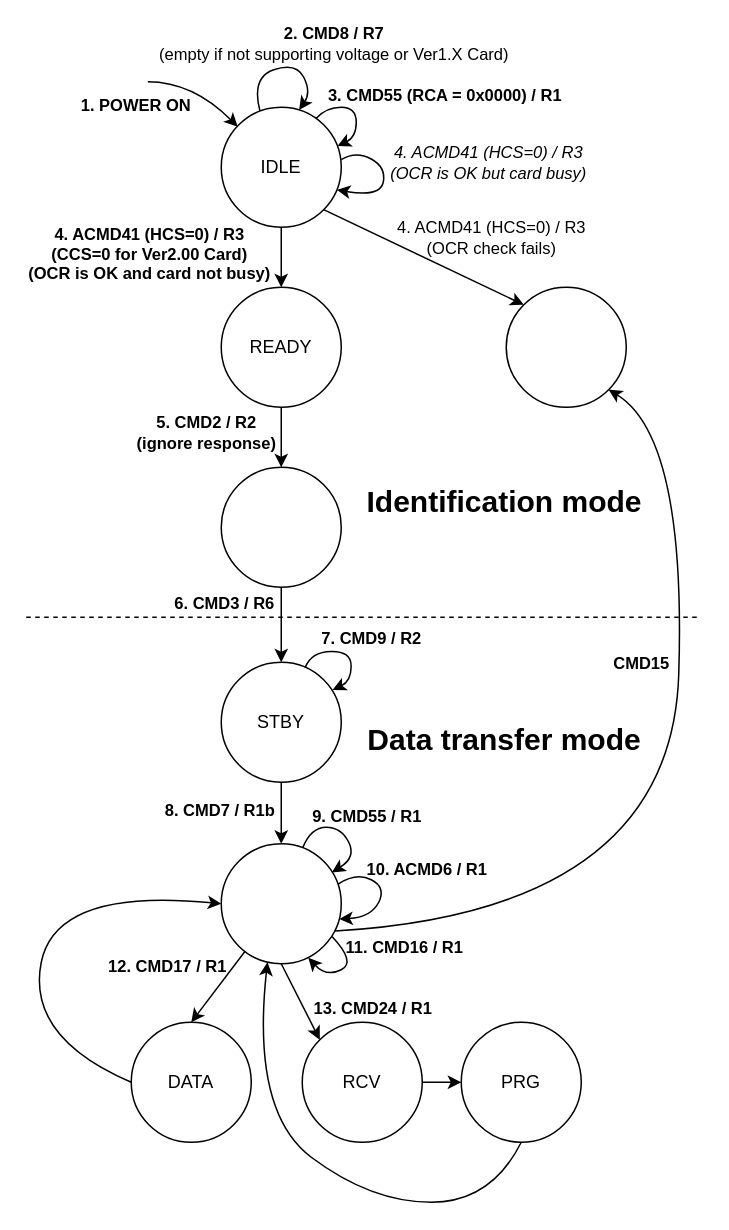
This 729x1230 diagram has some shape labels left out. Each missing label, with the centre of its shape:
IDENT: pixel 280 526
INA: pixel 565 346
TRAN: pixel 280 903
